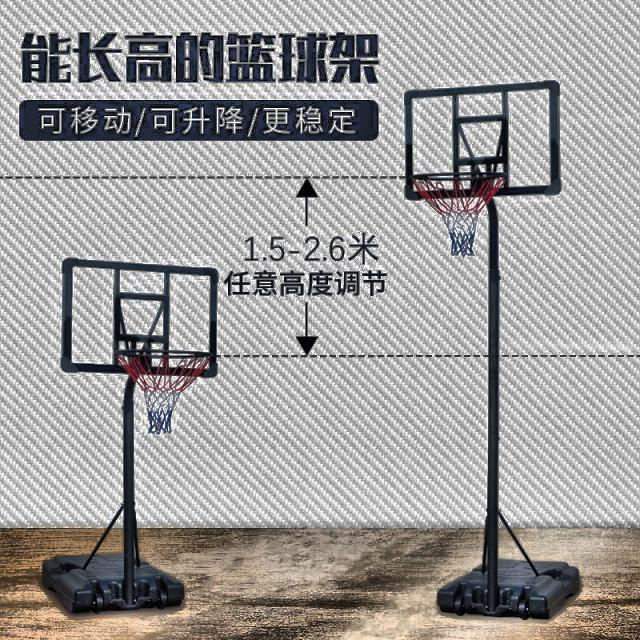rim: (112, 349, 211, 436), (406, 172, 506, 254)
